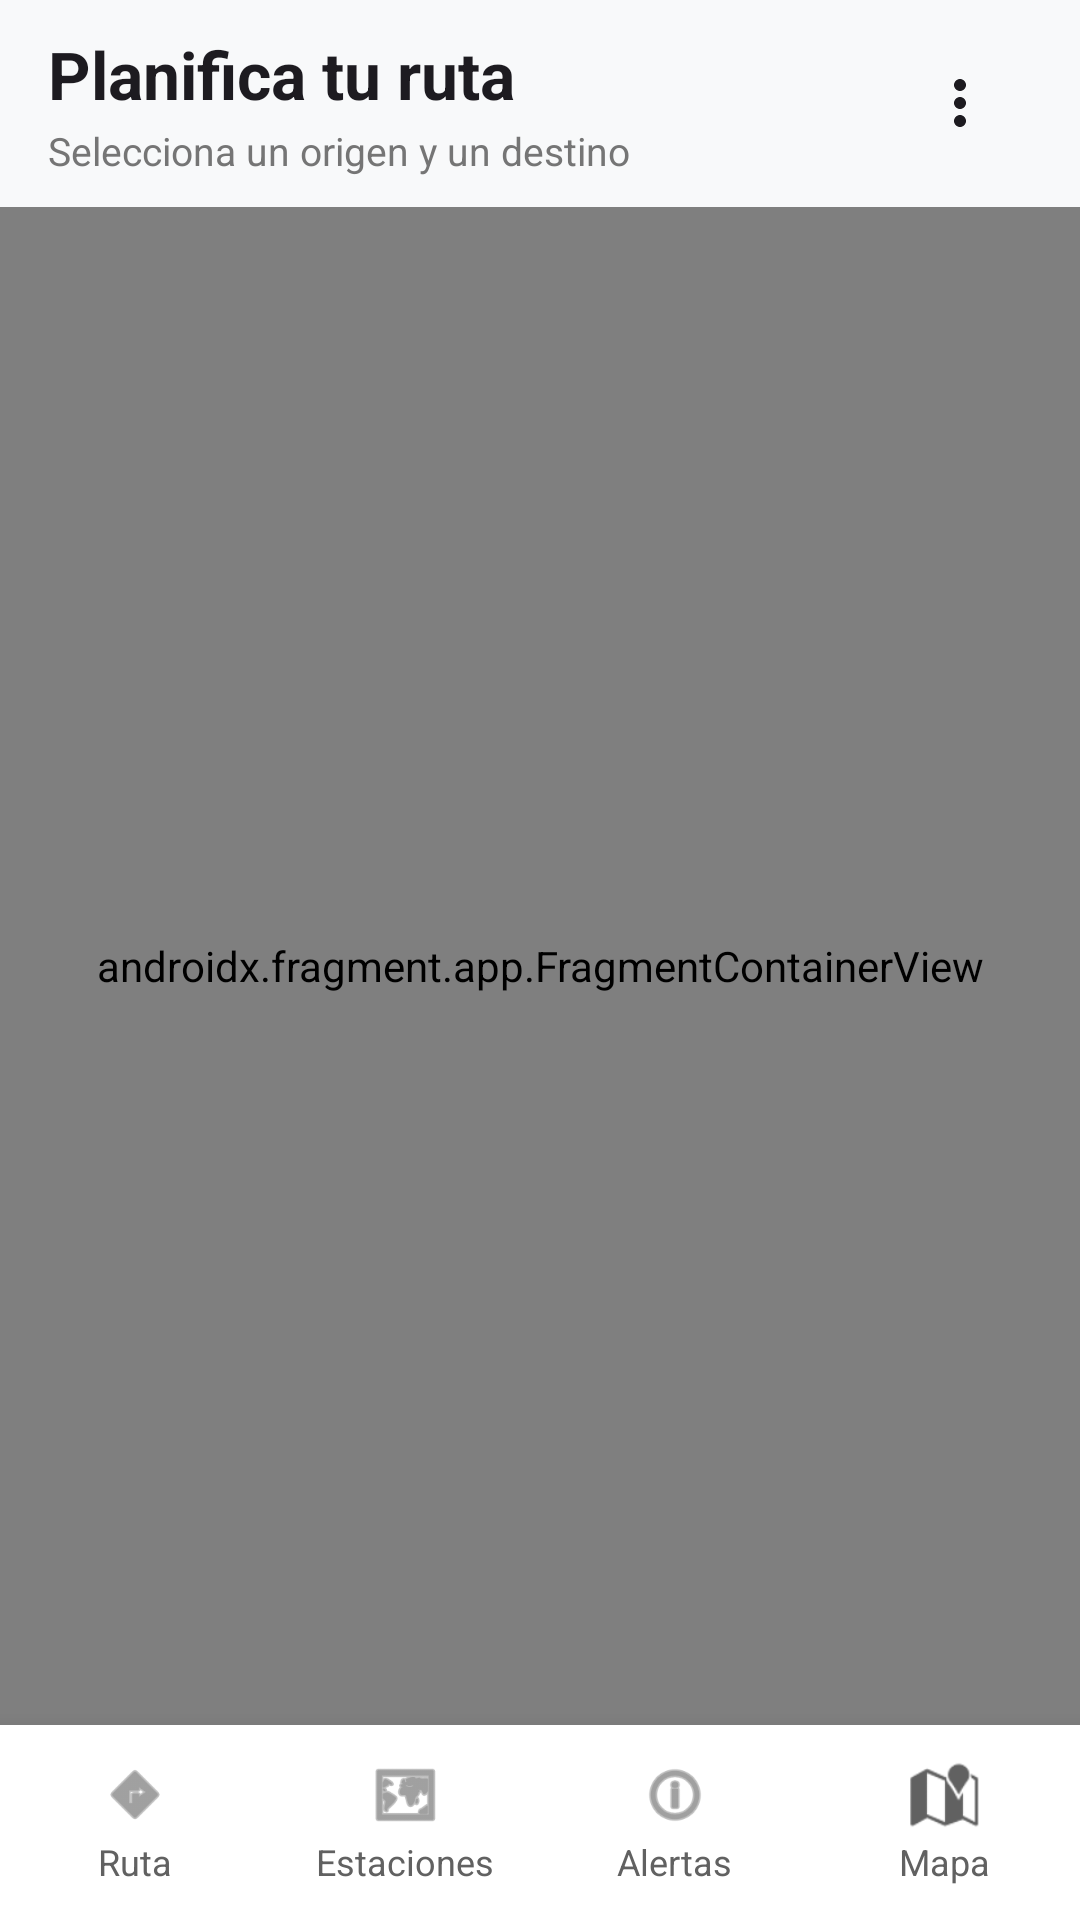

Where icons sit on this 1080×1920 app screen, as [x1, y1, x2, y2]:
info details: [649, 1769, 701, 1821]
mapmode: [375, 1769, 435, 1821]
Opciones: [954, 79, 966, 127]
